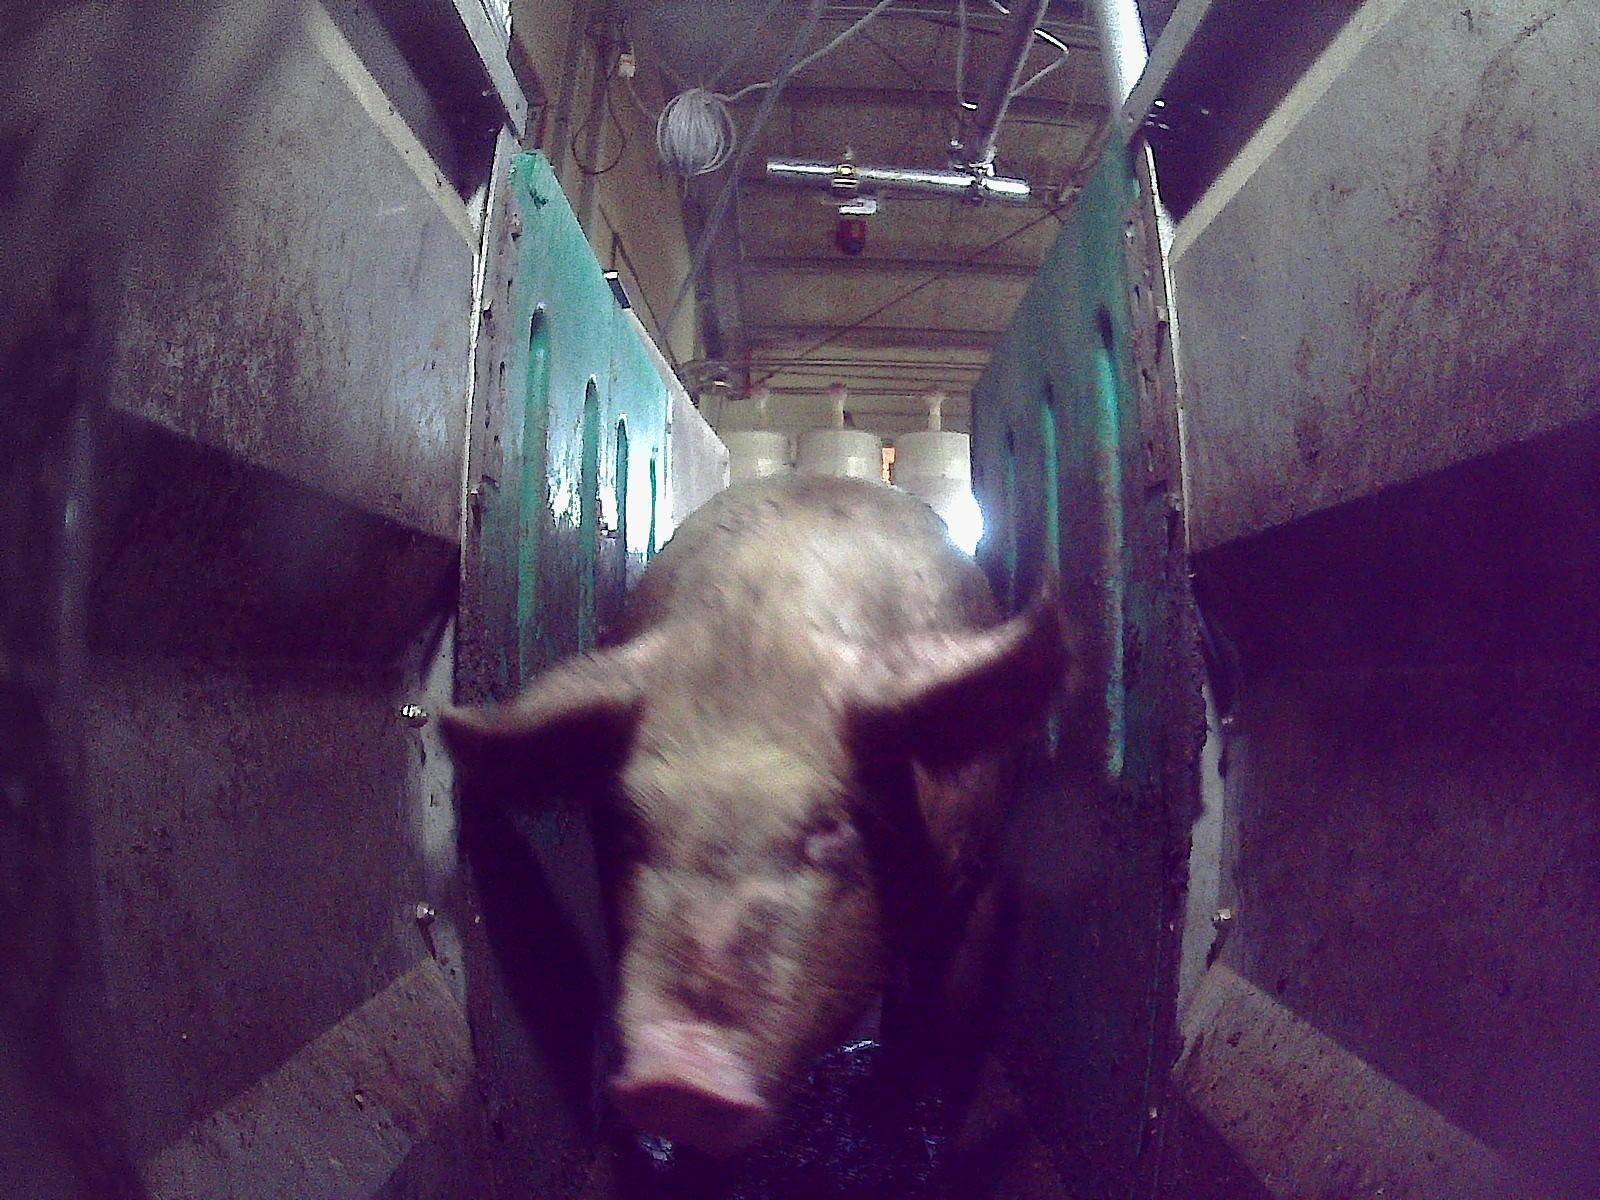Face: (606, 616, 926, 1159)
